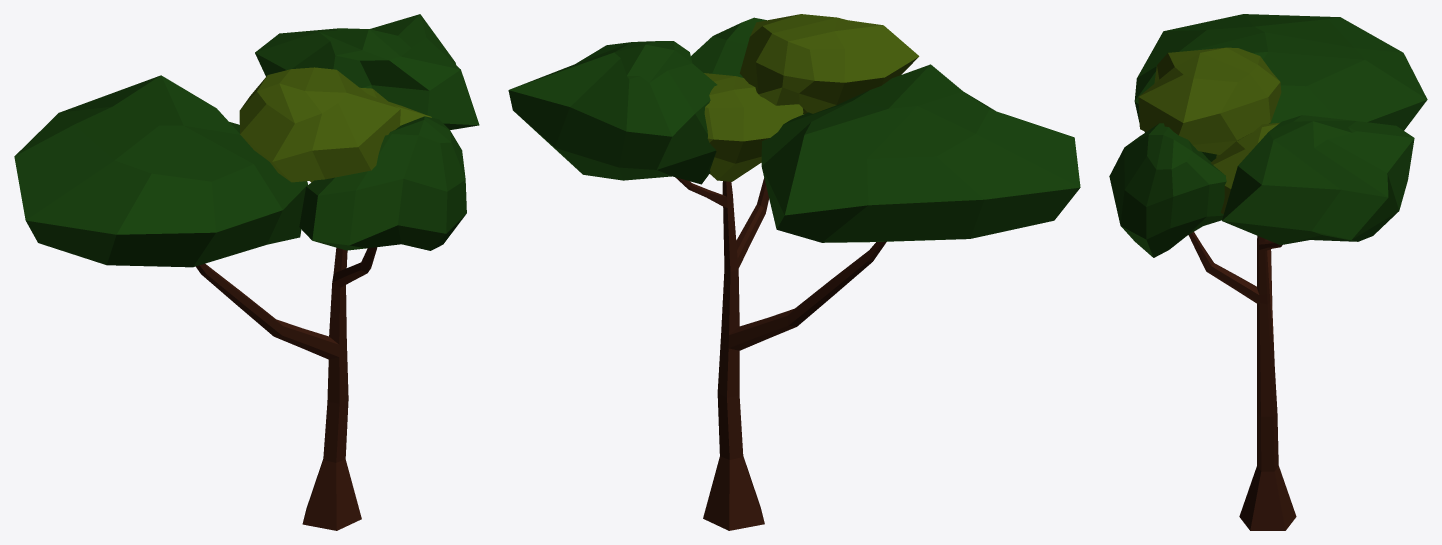
Rendered from Tree_3.FBX.
3 views of the same model, side by side, from view 1: azimuth 30°, elevation 25°; view 2: azimuth 150°, elevation 25°; view 3: azimuth 270°, elevation 25° (orthographic). The views are drawn at different scales.
Visible parts, largest first — view 1: Tree_3; view 2: Tree_3; view 3: Tree_3.
Part boxes in pixels (x1,y1,x2,y2): Tree_3: (14,14,479,530); Tree_3: (508,14,1080,530); Tree_3: (1109,14,1427,530).
Bounding box in the file's own units: 259 × 237 × 156.
